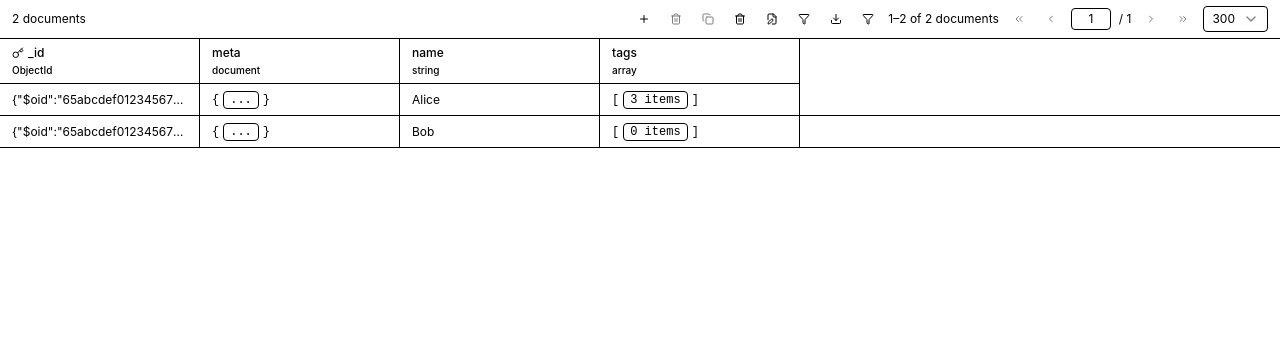
Test: DocumentDataGrid › nested cell toggle expands an inline tree row underneath
Expected: the text "Alice" is shown, 412,92 -> 440,108
Click the button named "Expand meta": (241, 100) 223,90 -> 259,108
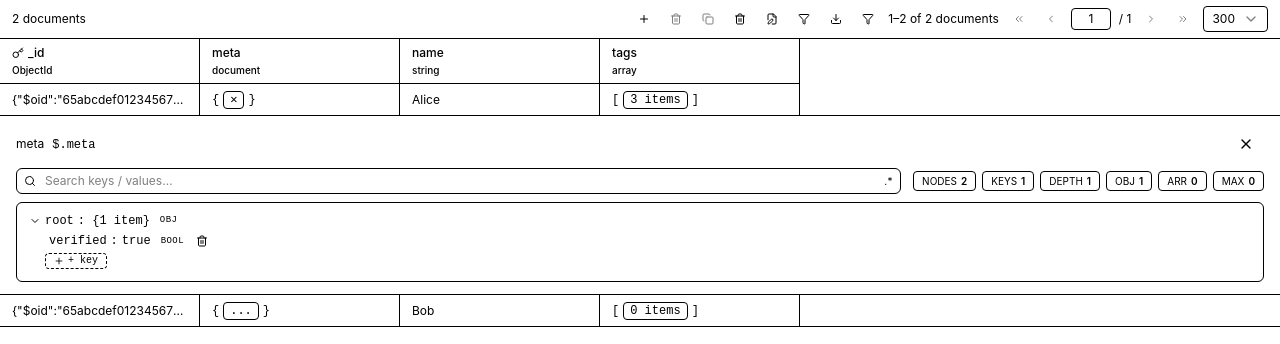
Expected: the row with test id "nested-detail-row-0" is shown, 0,116 -> 1279,295
Expected: the list item with test id "tree-node-verified" is shown, 49,233 -> 208,249
Expected: the button named "Expand meta" reads "✕"
# Same toggle again closes the detail row.
Click the button named "Expand meta": (234, 100) 223,90 -> 244,108
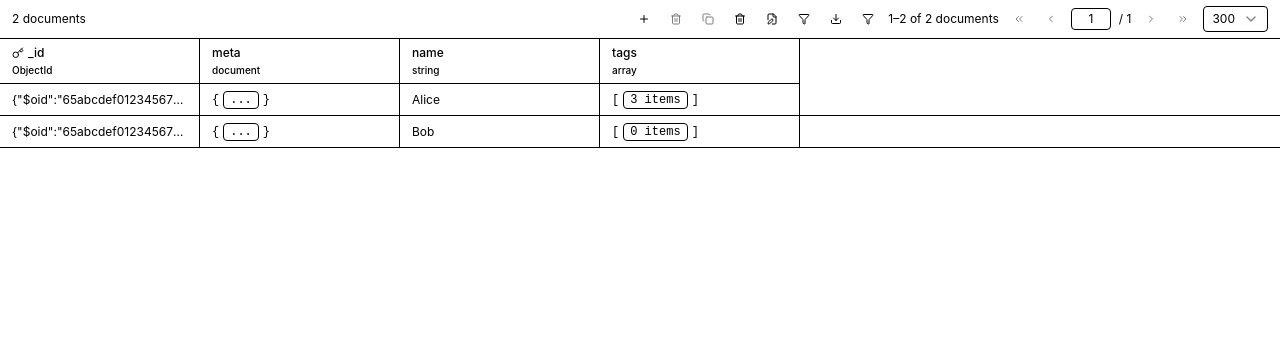
Expected: the row with test id "nested-detail-row-0" is gone
